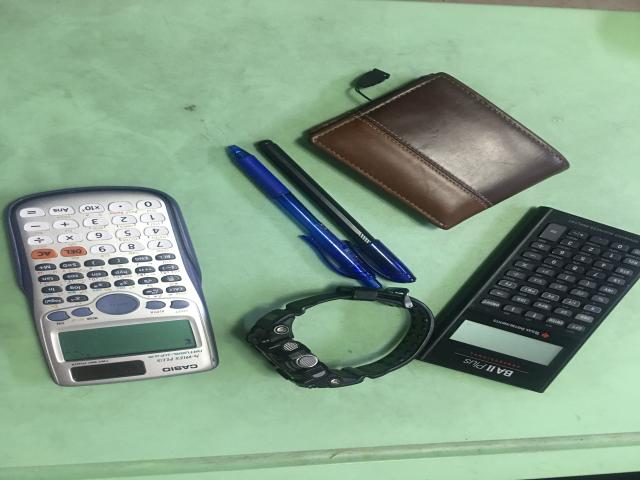Pen: (226, 142, 416, 289)
Wallet: (305, 73, 571, 232)
Watch: (241, 288, 433, 390)
